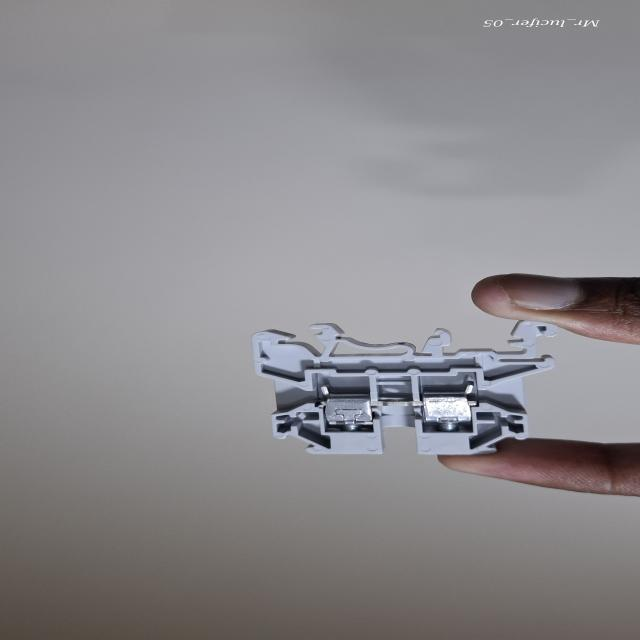Pass: (243, 317, 559, 457)
